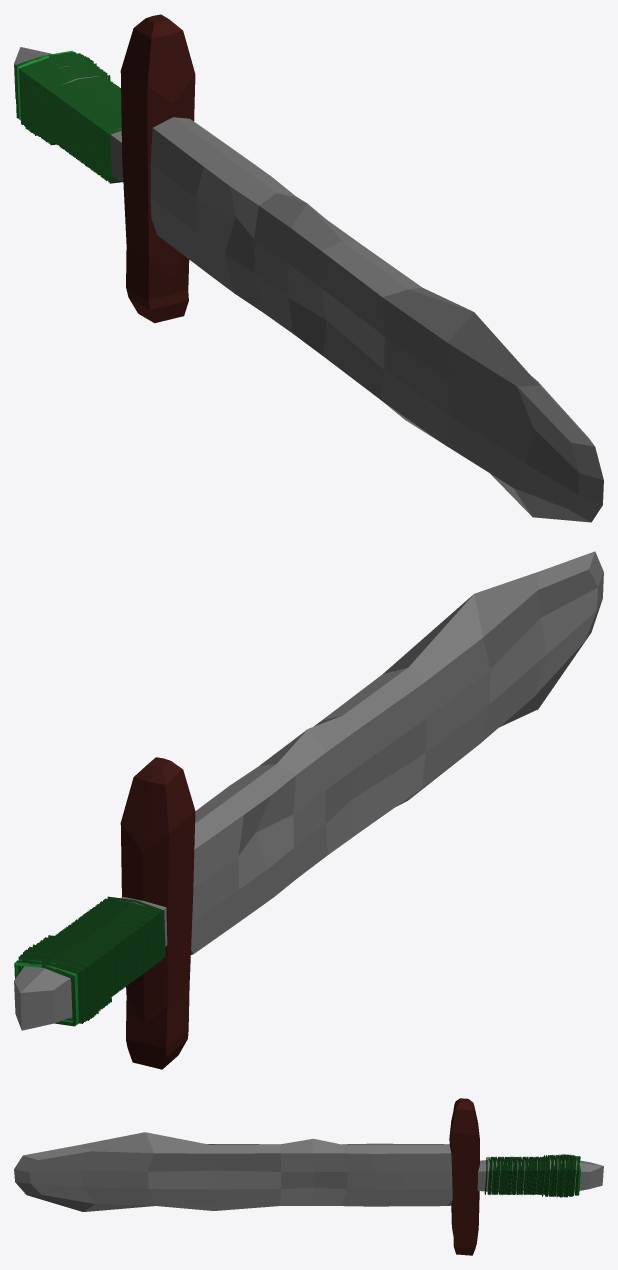
The model's file is StoneSword.fbx.
3 renders of one model, top to bottom at view 1: azimuth 30°, elevation 25°; view 2: azimuth 150°, elevation 25°; view 3: azimuth 270°, elevation 25°, orthographic. The views are drawn at different scales.
Parts seen in each view (by area): view 1: Plane, Plane.045, Plane.046, Plane.048, Plane.047; view 2: Plane, Plane.045, Plane.048, Plane.047, Plane.046; view 3: Plane, Plane.045, Plane.048, Plane.046, Plane.047.
Boxes of the visible parts, left/top/right/bottom form: Plane: left=14, top=47, right=603, bottom=522; Plane.045: left=120, top=14, right=195, bottom=323; Plane.046: left=15, top=51, right=121, bottom=180; Plane.048: left=14, top=50, right=121, bottom=179; Plane.047: left=28, top=59, right=122, bottom=183; Plane: left=14, top=551, right=603, bottom=1030; Plane.045: left=120, top=757, right=195, bottom=1069; Plane.048: left=14, top=900, right=160, bottom=1026; Plane.047: left=19, top=896, right=165, bottom=1022; Plane.046: left=15, top=899, right=161, bottom=1025; Plane: left=14, top=1132, right=603, bottom=1211; Plane.045: left=449, top=1098, right=479, bottom=1255; Plane.048: left=490, top=1154, right=580, bottom=1197; Plane.046: left=488, top=1154, right=579, bottom=1197; Plane.047: left=484, top=1154, right=575, bottom=1197.
Bounding box in the file's own units: 105 × 466 × 1648.
